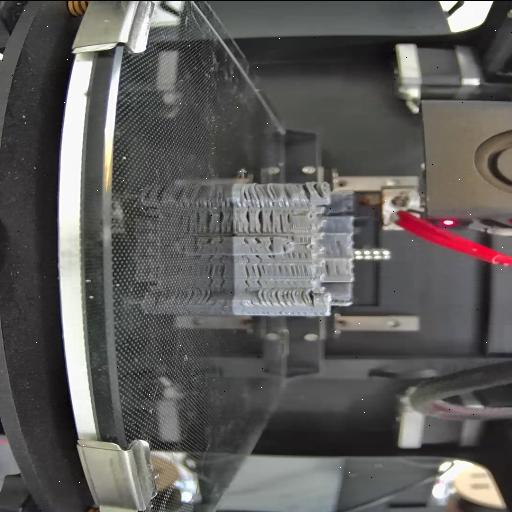cracks: (240, 184, 290, 208), (254, 288, 316, 305), (243, 210, 271, 232), (302, 180, 322, 200), (274, 264, 306, 276), (242, 264, 266, 278), (276, 212, 292, 232), (239, 254, 277, 262), (288, 250, 306, 260), (242, 280, 266, 286), (292, 234, 310, 242), (242, 236, 263, 242), (326, 259, 332, 276), (336, 239, 342, 255), (267, 237, 273, 252), (282, 243, 286, 253)
